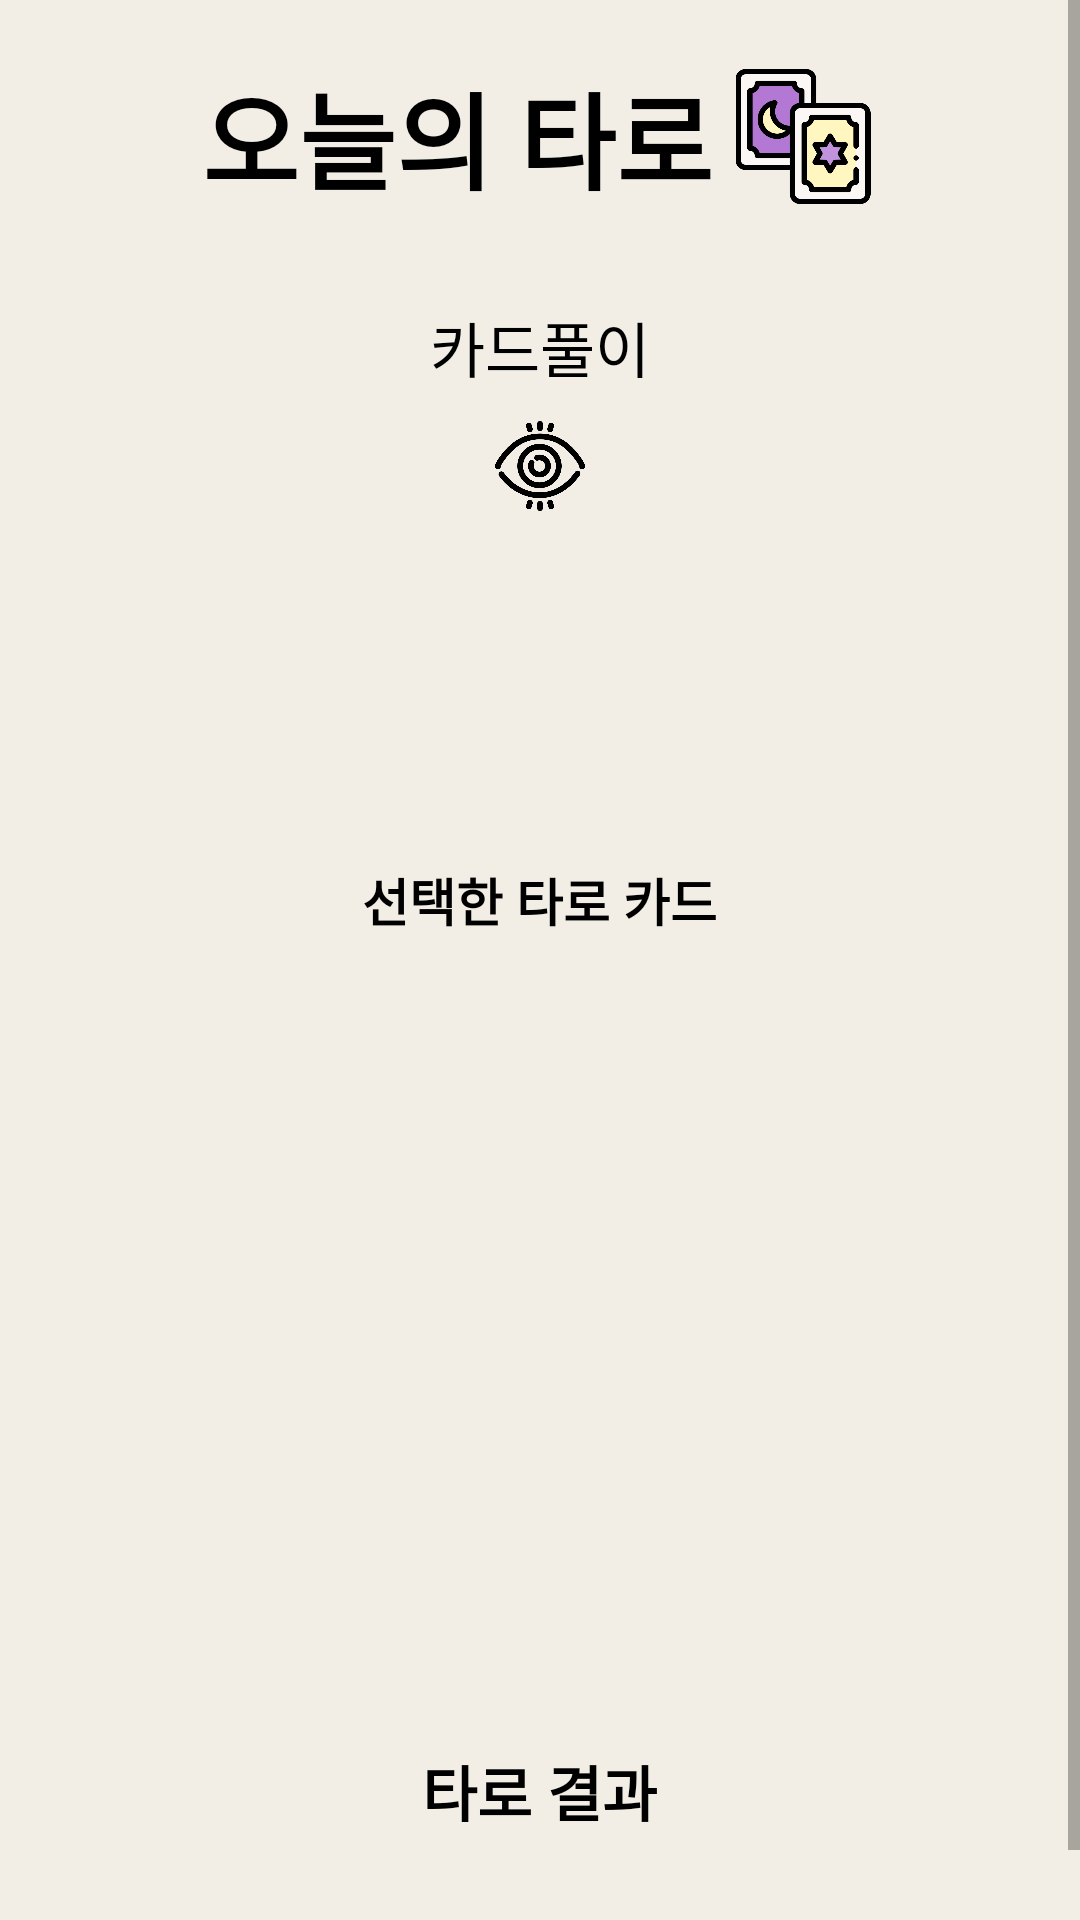

Where icons sit on this 1080*1920 app screen, as rect(x1, y1, x2, y2):
taro: rect(736, 69, 871, 204)
view: rect(495, 421, 585, 511)
